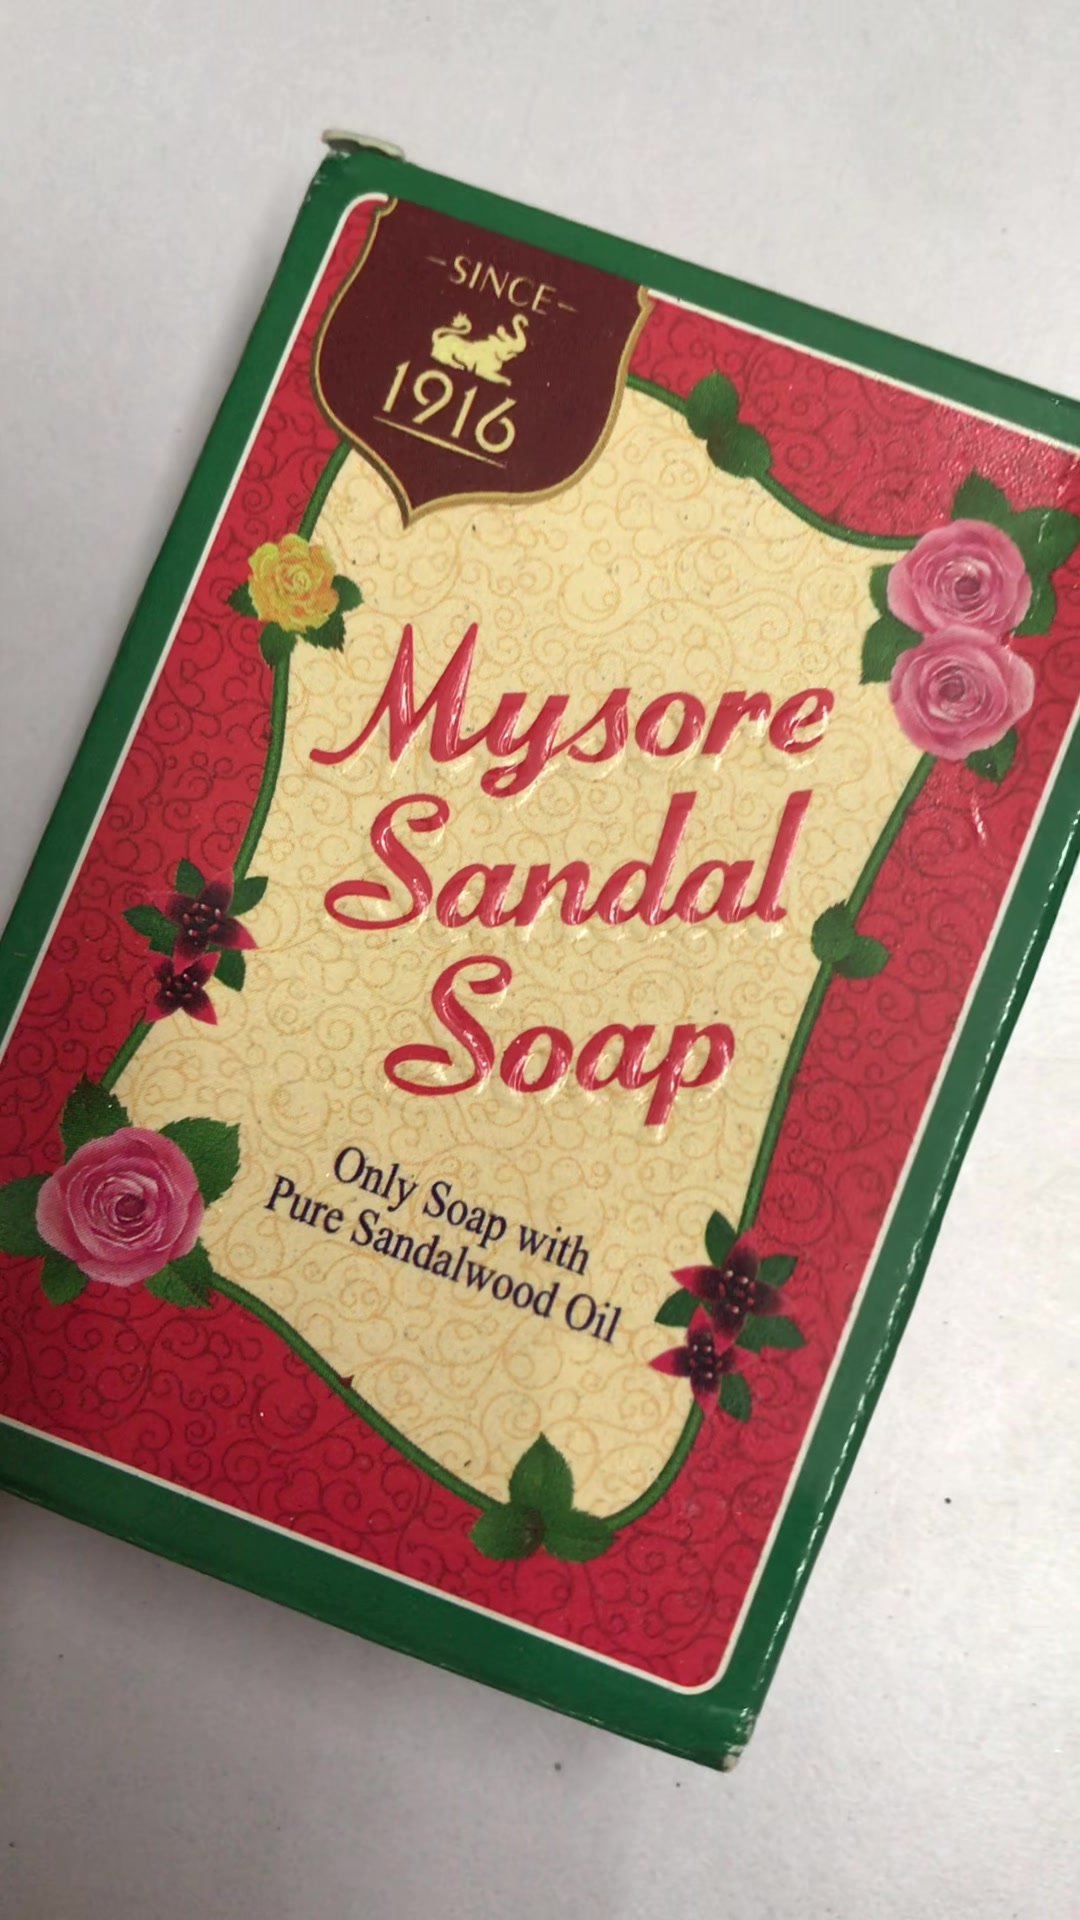mysore sandal soap: (9, 146, 1080, 1766)
